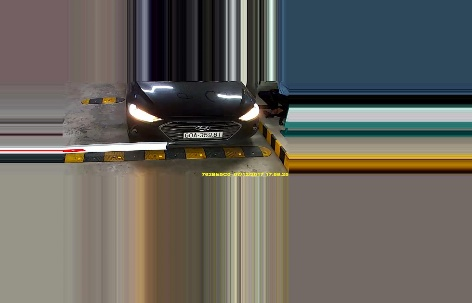plate: (183, 132, 223, 139)
